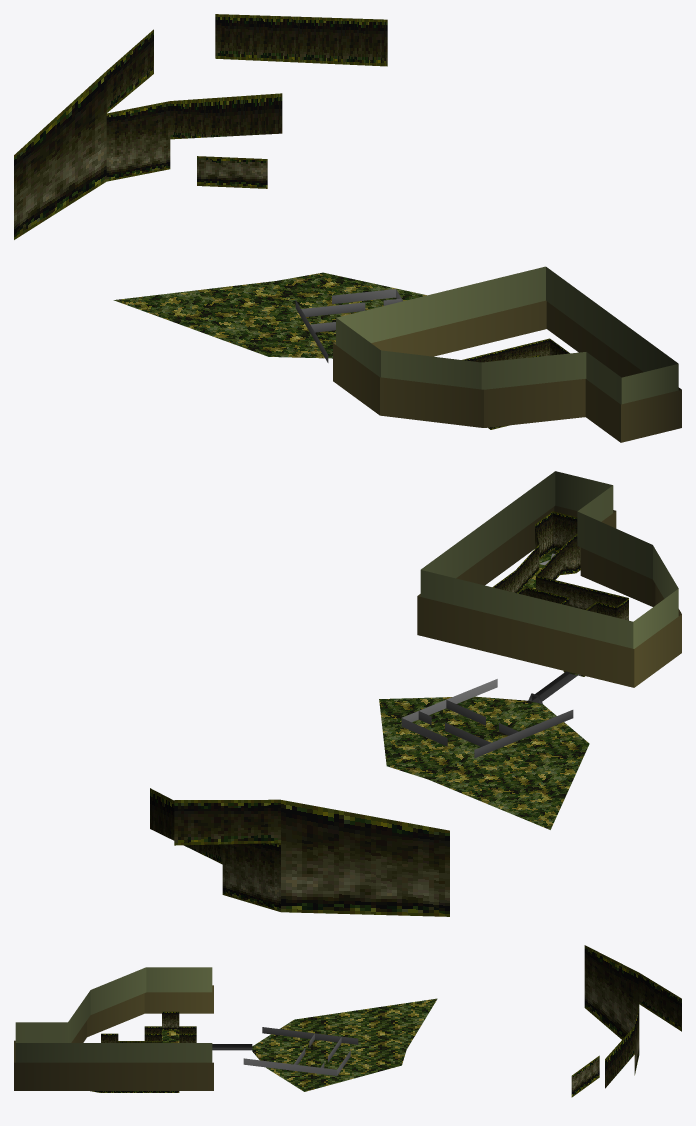
File: Room_2.fbx
The picture shows the model from 3 angles, top to bottom: view 1: azimuth 30°, elevation 25°; view 2: azimuth 150°, elevation 25°; view 3: azimuth 270°, elevation 25°; orthographic projection. The views are drawn at different scales.
Visible parts, largest first — view 1: ob_03001880, ob_030016C0, ob_03000610, ob_030011B8, ob_03000FB8, ob_03001238, ob_03001278, ob_030012B8, ob_03002890; view 2: ob_03001880, ob_03000610, ob_03000FB8, ob_030016C0, ob_03001238, ob_030011B8, ob_03002890, ob_03001278; view 3: ob_03000610, ob_03001880, ob_030016C0, ob_03000FB8, ob_03001238, ob_03002890, ob_030011B8, ob_03001278, ob_030012B8, ob_03001D40.
Part boxes in pixels (box(x1,y1,x2,y2)): ob_03001880: box(336, 266, 678, 404); ob_030016C0: box(333, 300, 681, 442); ob_03000610: box(113, 272, 426, 358); ob_030011B8: box(106, 14, 387, 112); ob_03000FB8: box(14, 101, 569, 429); ob_03001238: box(14, 71, 106, 239); ob_03001278: box(170, 93, 282, 139); ob_030012B8: box(197, 156, 267, 188); ob_03002890: box(295, 289, 402, 362); ob_03001880: box(420, 471, 678, 648); ob_03000610: box(379, 550, 589, 829); ob_03000FB8: box(222, 511, 628, 916); ob_030016C0: box(417, 505, 681, 687); ob_03001238: box(281, 800, 449, 916); ob_030011B8: box(174, 799, 280, 845); ob_03002890: box(401, 679, 573, 758); ob_03001278: box(150, 788, 222, 864); ob_03000610: box(162, 998, 437, 1091); ob_03001880: box(15, 967, 212, 1062); ob_030016C0: box(14, 985, 213, 1090); ob_03000FB8: box(90, 1004, 639, 1092); ob_03001238: box(584, 945, 639, 1007); ob_03002890: box(243, 1027, 358, 1075); ob_030011B8: box(639, 973, 681, 1031); ob_03001278: box(605, 1026, 634, 1088); ob_030012B8: box(571, 1055, 599, 1097); ob_03001D40: box(212, 1044, 252, 1050).
Size of the model in its own units: 41.08 by 11.23 by 79.96.
